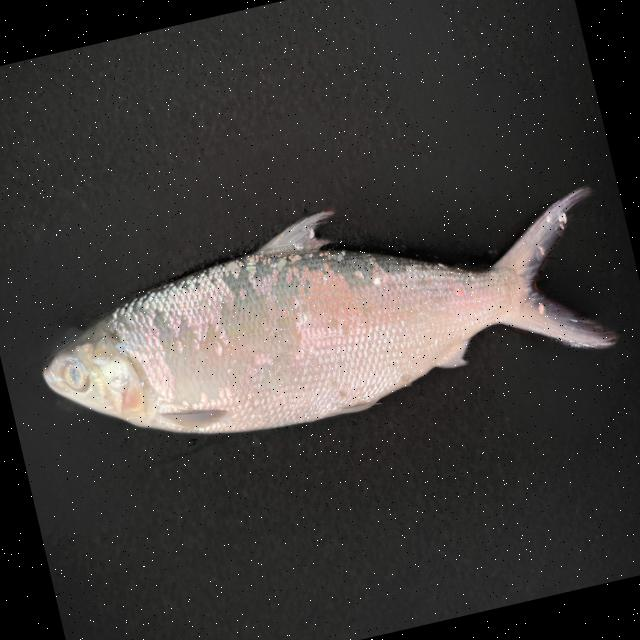945 g: (21, 150, 627, 478)
